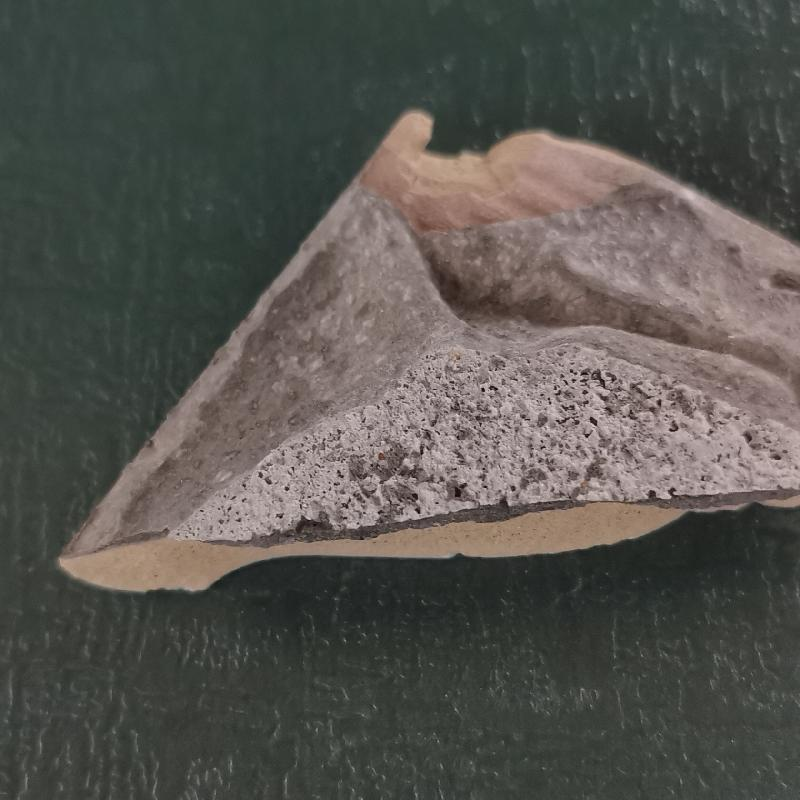tile: (46, 101, 800, 600)
